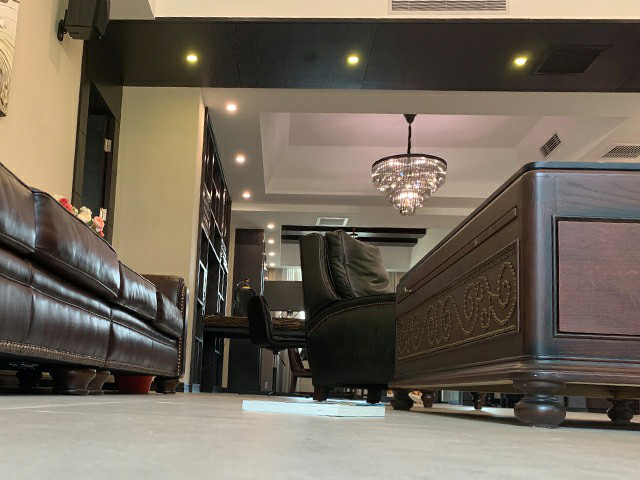book: (240, 398, 386, 419)
sofa: (2, 162, 190, 395), (298, 227, 398, 404)
stool: (237, 293, 311, 397)
table: (388, 158, 640, 428), (197, 313, 308, 394)
